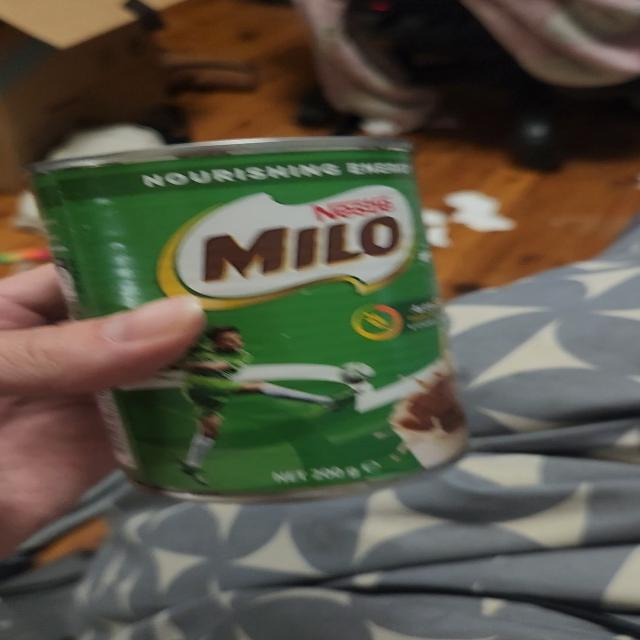nestle_milo_tin: (30, 137, 470, 504)
